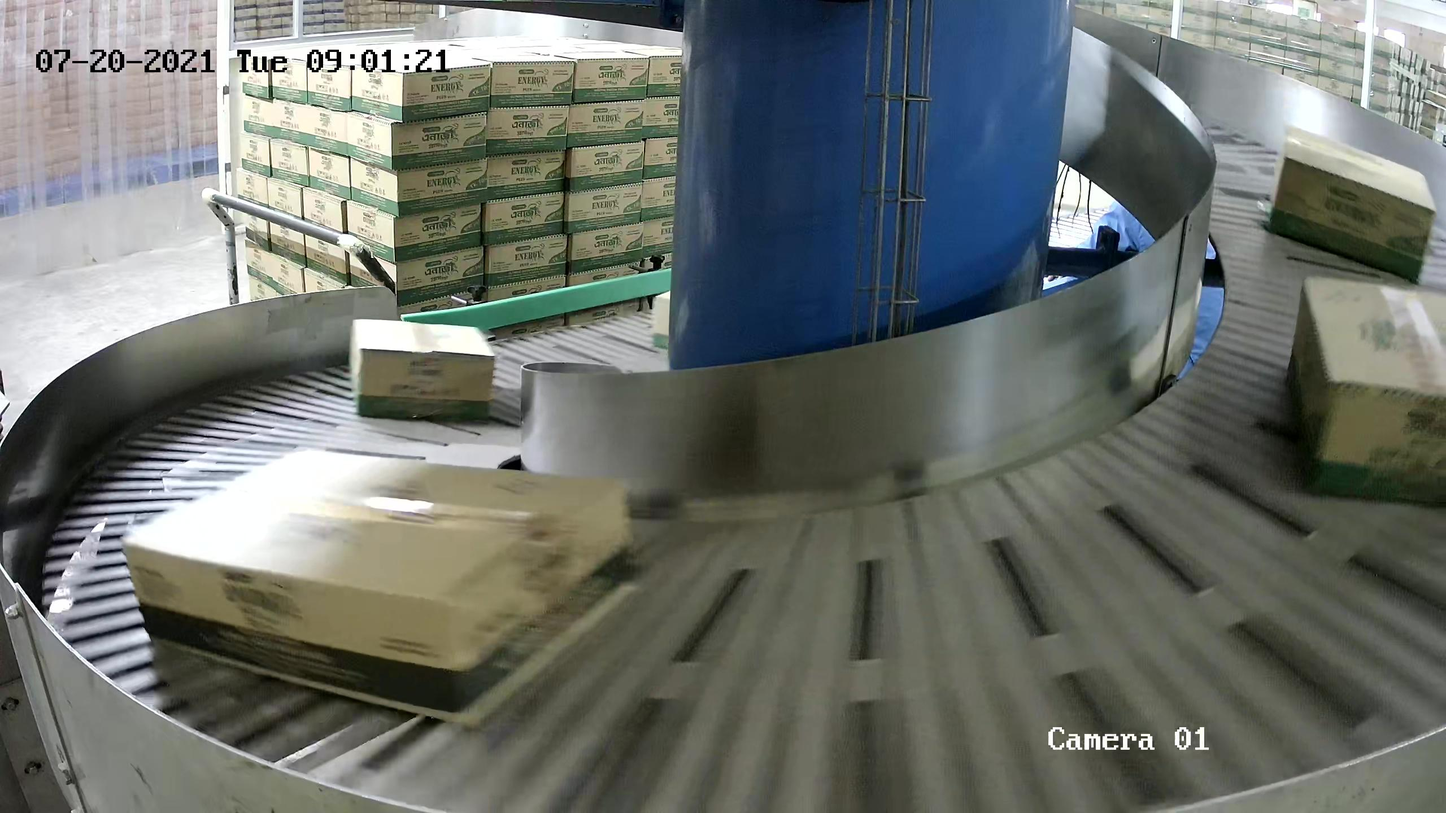Box: (116, 439, 643, 730), (1283, 273, 1446, 509), (1266, 121, 1440, 285), (346, 316, 499, 425)
